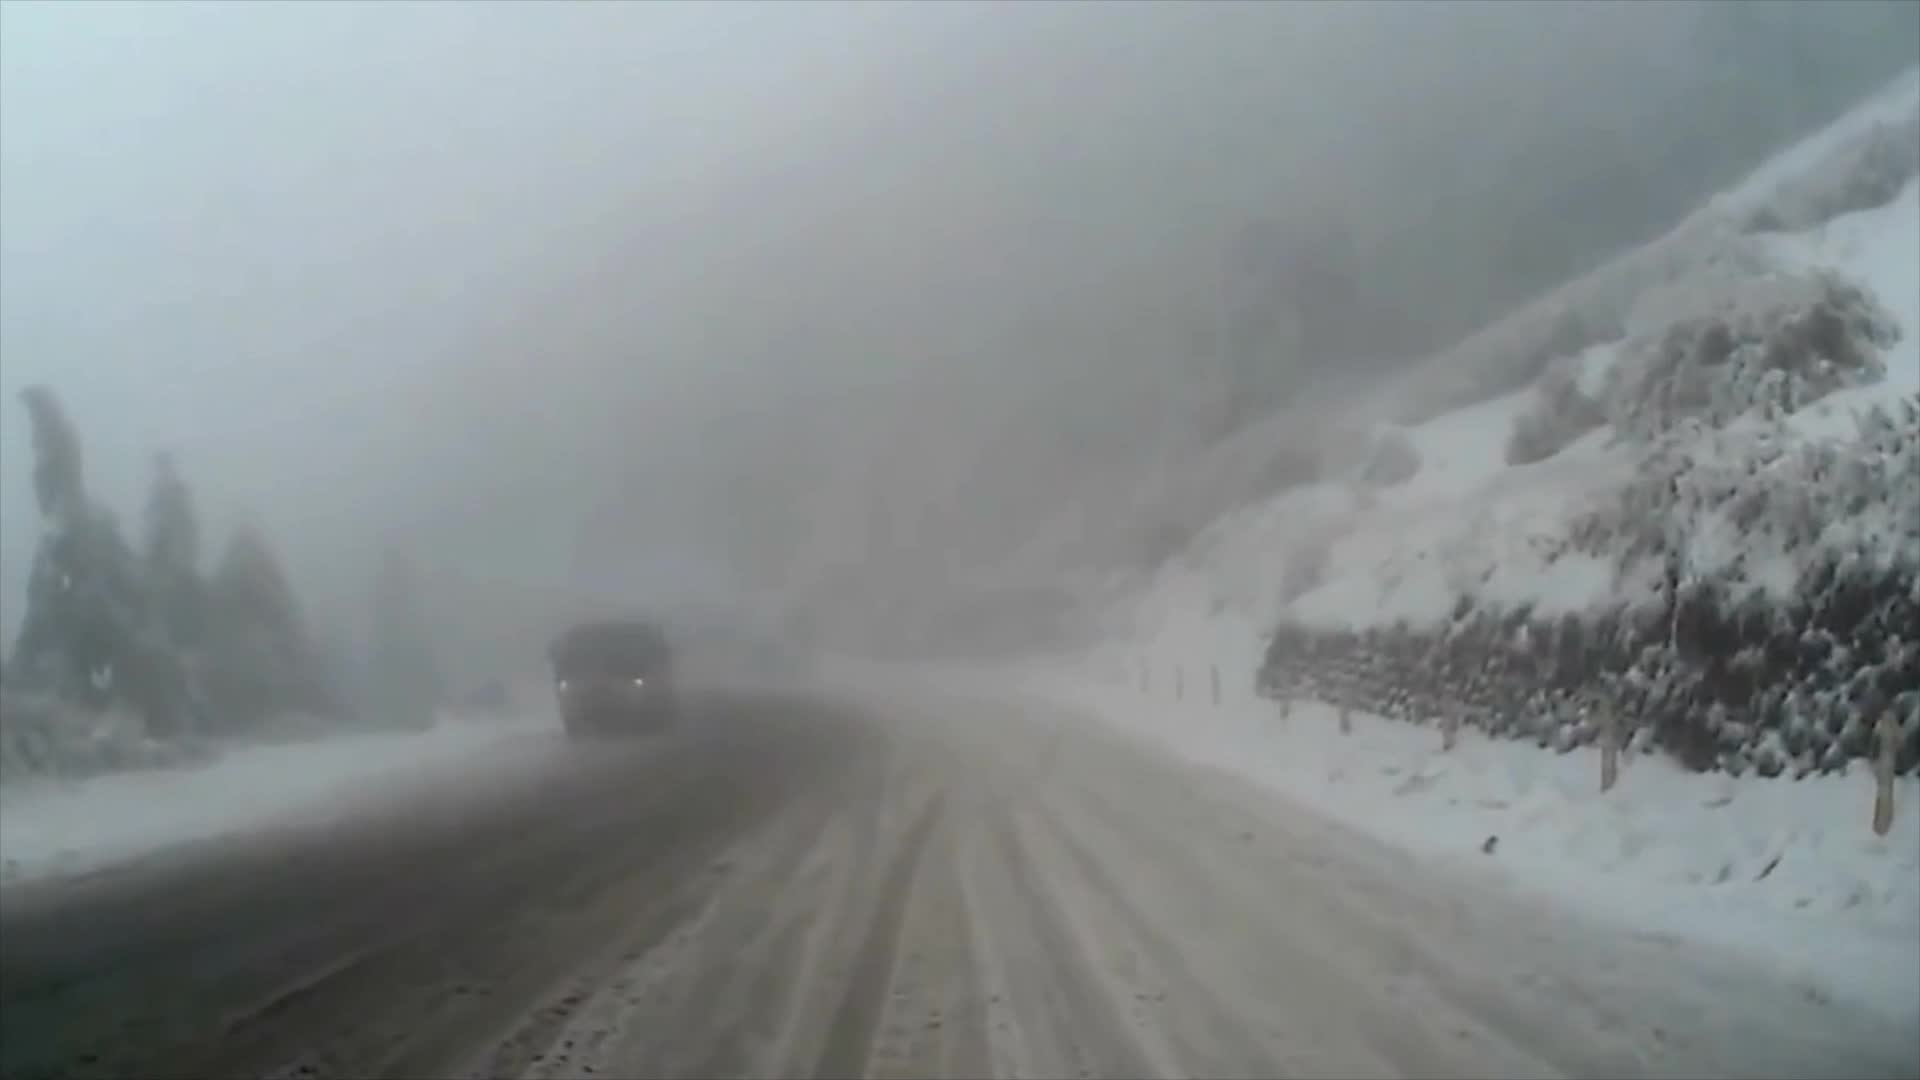vehicle: (547, 617, 679, 737)
